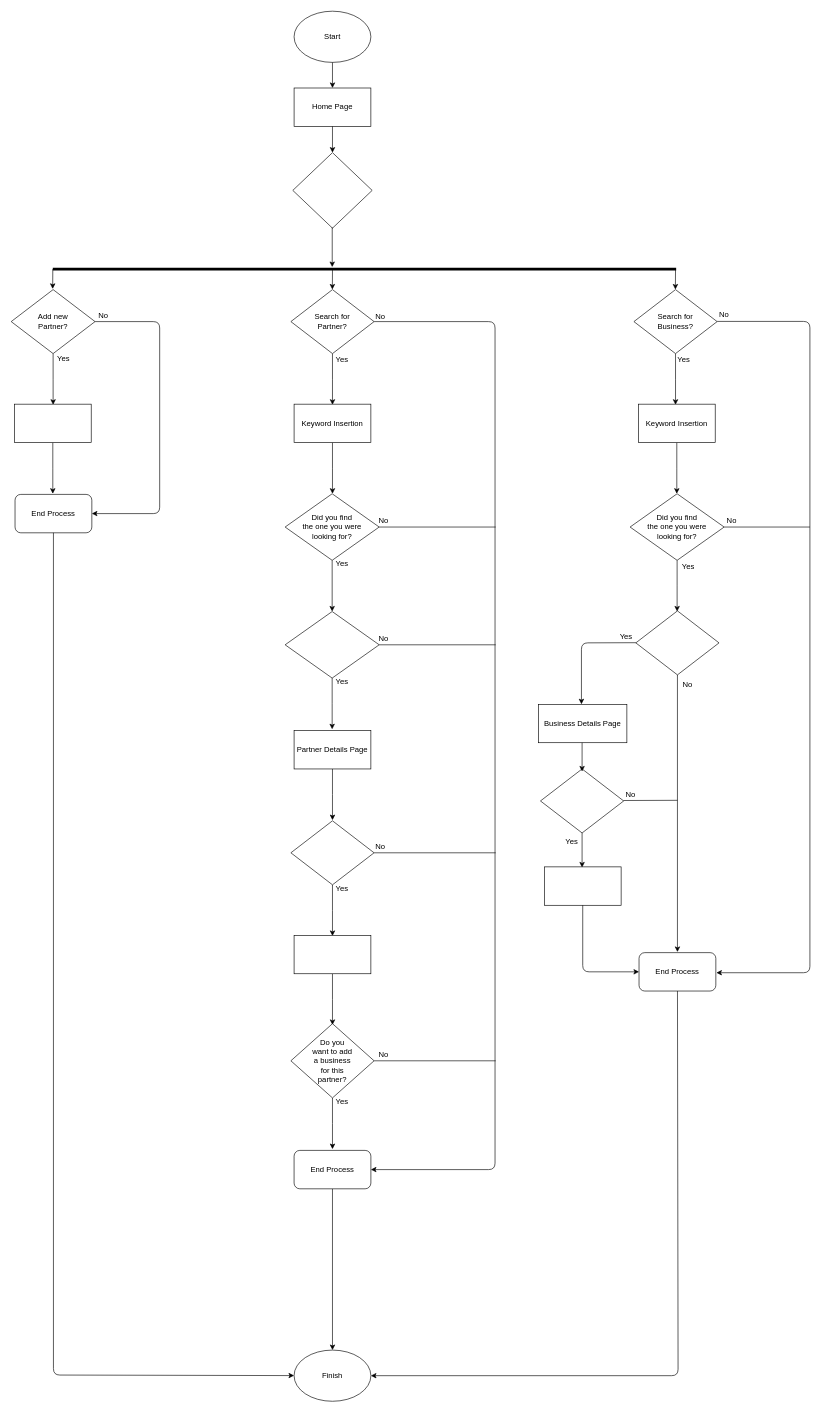
Some shapes in this 826 by 1412 pixel diagram are drawn without their labels. Here are the shapes that lost their labels. From the top down, the centre of each, then its label:
At point 332,190: "What do you want to do?".
At point 52,423: "New Partner Page".
At point 331,644: "View Partner Details?".
At point 677,642: "View Business Details?".
At point 582,800: "Do you want to edit the business details?".
At point 332,852: "Do you want to edit the partner details?".
At point 582,885: "Update Business Details".
At point 332,954: "Update Partner Details".
